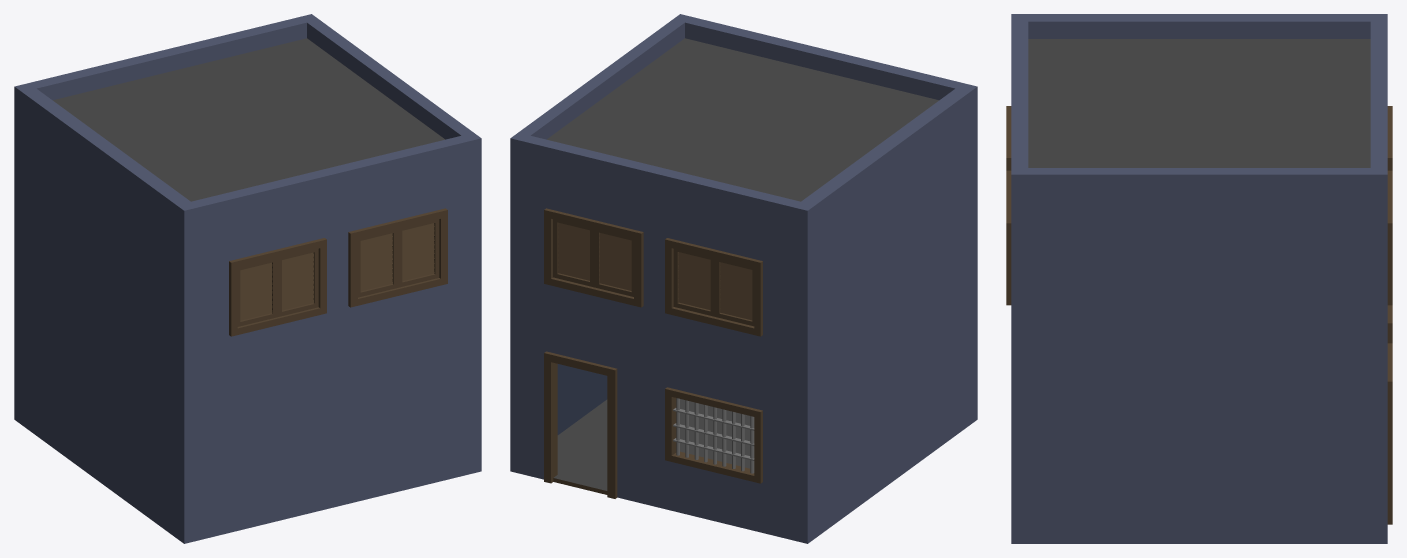
The model's file is OpenClosedTypeBuilding.fbx.
3 views of the same model, side by side, from view 1: azimuth 30°, elevation 25°; view 2: azimuth 150°, elevation 25°; view 3: azimuth 270°, elevation 25° (orthographic). The views are drawn at different scales.
Parts seen in each view (by area): view 1: OpenClosedTypeBuilding_LOD0; view 2: OpenClosedTypeBuilding_LOD0; view 3: OpenClosedTypeBuilding_LOD0.
Part boxes in pixels (x1=…): OpenClosedTypeBuilding_LOD0: x1=14, y1=14, x2=481, y2=543; OpenClosedTypeBuilding_LOD0: x1=510, y1=14, x2=977, y2=543; OpenClosedTypeBuilding_LOD0: x1=1006, y1=14, x2=1392, y2=543.
Size of what is drawn, in the model's own units: 1071 by 1147 by 1087.
Materials: 1 (1 with a texture image).
